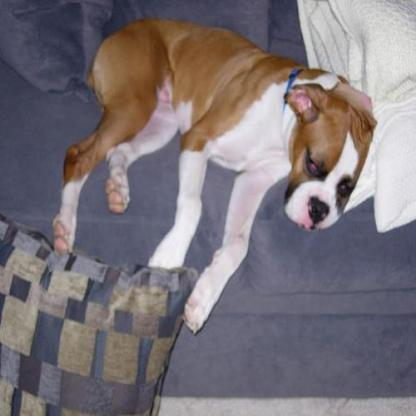boxer: (51, 16, 377, 336)
